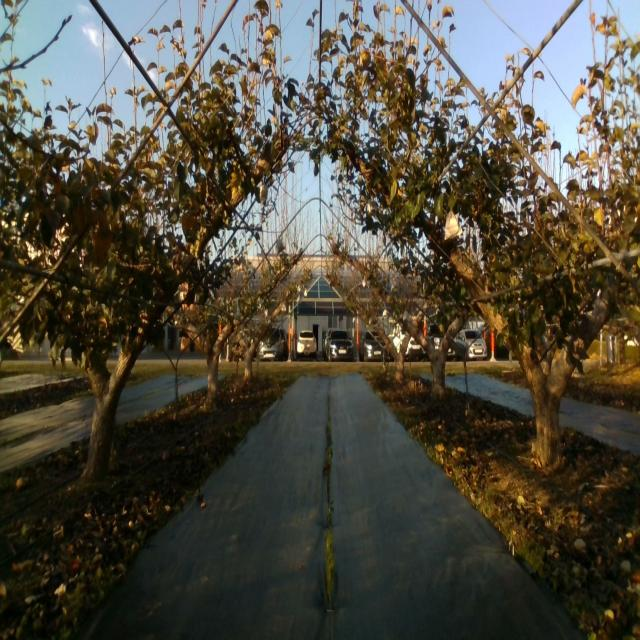pearbags: (444, 210, 462, 241)
